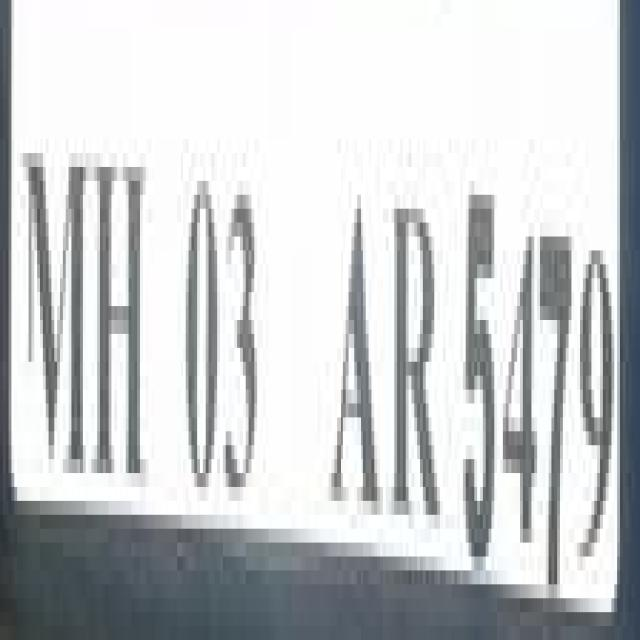plate: (8, 0, 605, 598)
